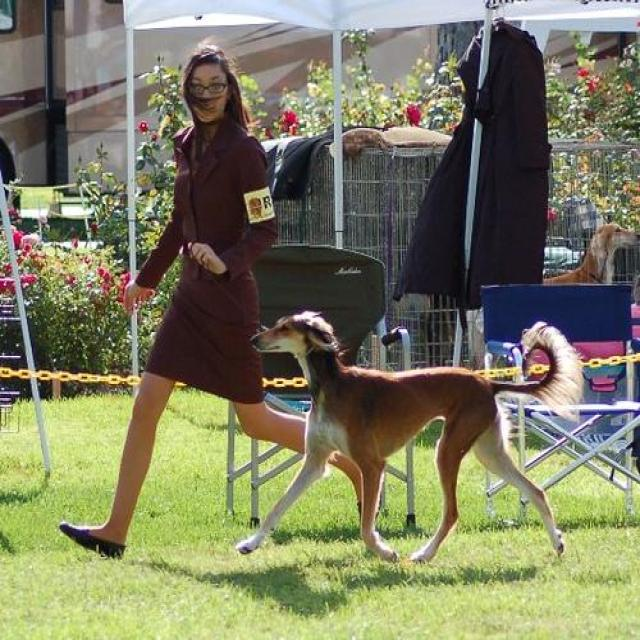saluki: (235, 306, 582, 562)
